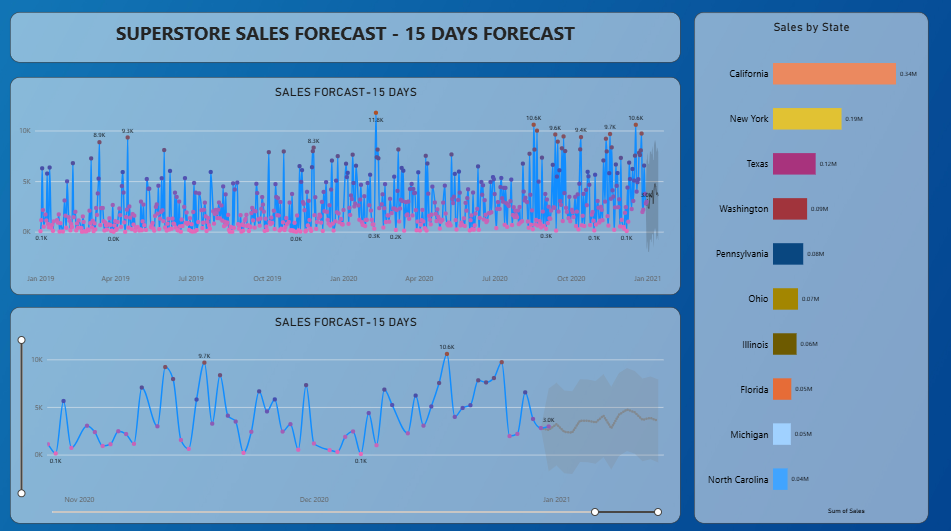

The dashboard page shown, as its layout file describes it:
{"tool":"powerbi","page":{"name":"Page 2","canvas":[1920,1080],"ordinal":1},"visuals":[{"type":"lineChart","title":"SALES FORCAST-15 DAYS","fields":{"Category":["SuperStore_Sales_Dataset.Order Date"],"Y":["Sum(SuperStore_Sales_Dataset.Sales)"]},"box":[25.7,164.3,1341.4,435.7],"z":0},{"type":"lineChart","title":"SALES FORCAST-15 DAYS","fields":{"Category":["SuperStore_Sales_Dataset.Order Date"],"Y":["Sum(SuperStore_Sales_Dataset.Sales)"]},"box":[25.7,624.3,1341.4,432.9],"z":1},{"type":"clusteredBarChart","title":" Sales by State","fields":{"Category":["SuperStore_Sales_Dataset.State"],"Y":["Sum(SuperStore_Sales_Dataset.Sales)"]},"box":[1394.3,34.3,468.6,1022.9],"z":2},{"type":"textbox","box":[25.7,34.3,1341.4,101.4],"z":3}]}

Visuals, with their boxes in screenshot pixels (x1, y1, x2, y2), scaled from the page's 1920x1080 canvas onto the 951x531 screenshot:
"SALES FORCAST-15 DAYS" lineChart: crop(13, 81, 677, 295)
"SALES FORCAST-15 DAYS" lineChart: crop(13, 307, 677, 520)
" Sales by State" clusteredBarChart: crop(691, 17, 923, 520)
textbox: crop(13, 17, 677, 67)
